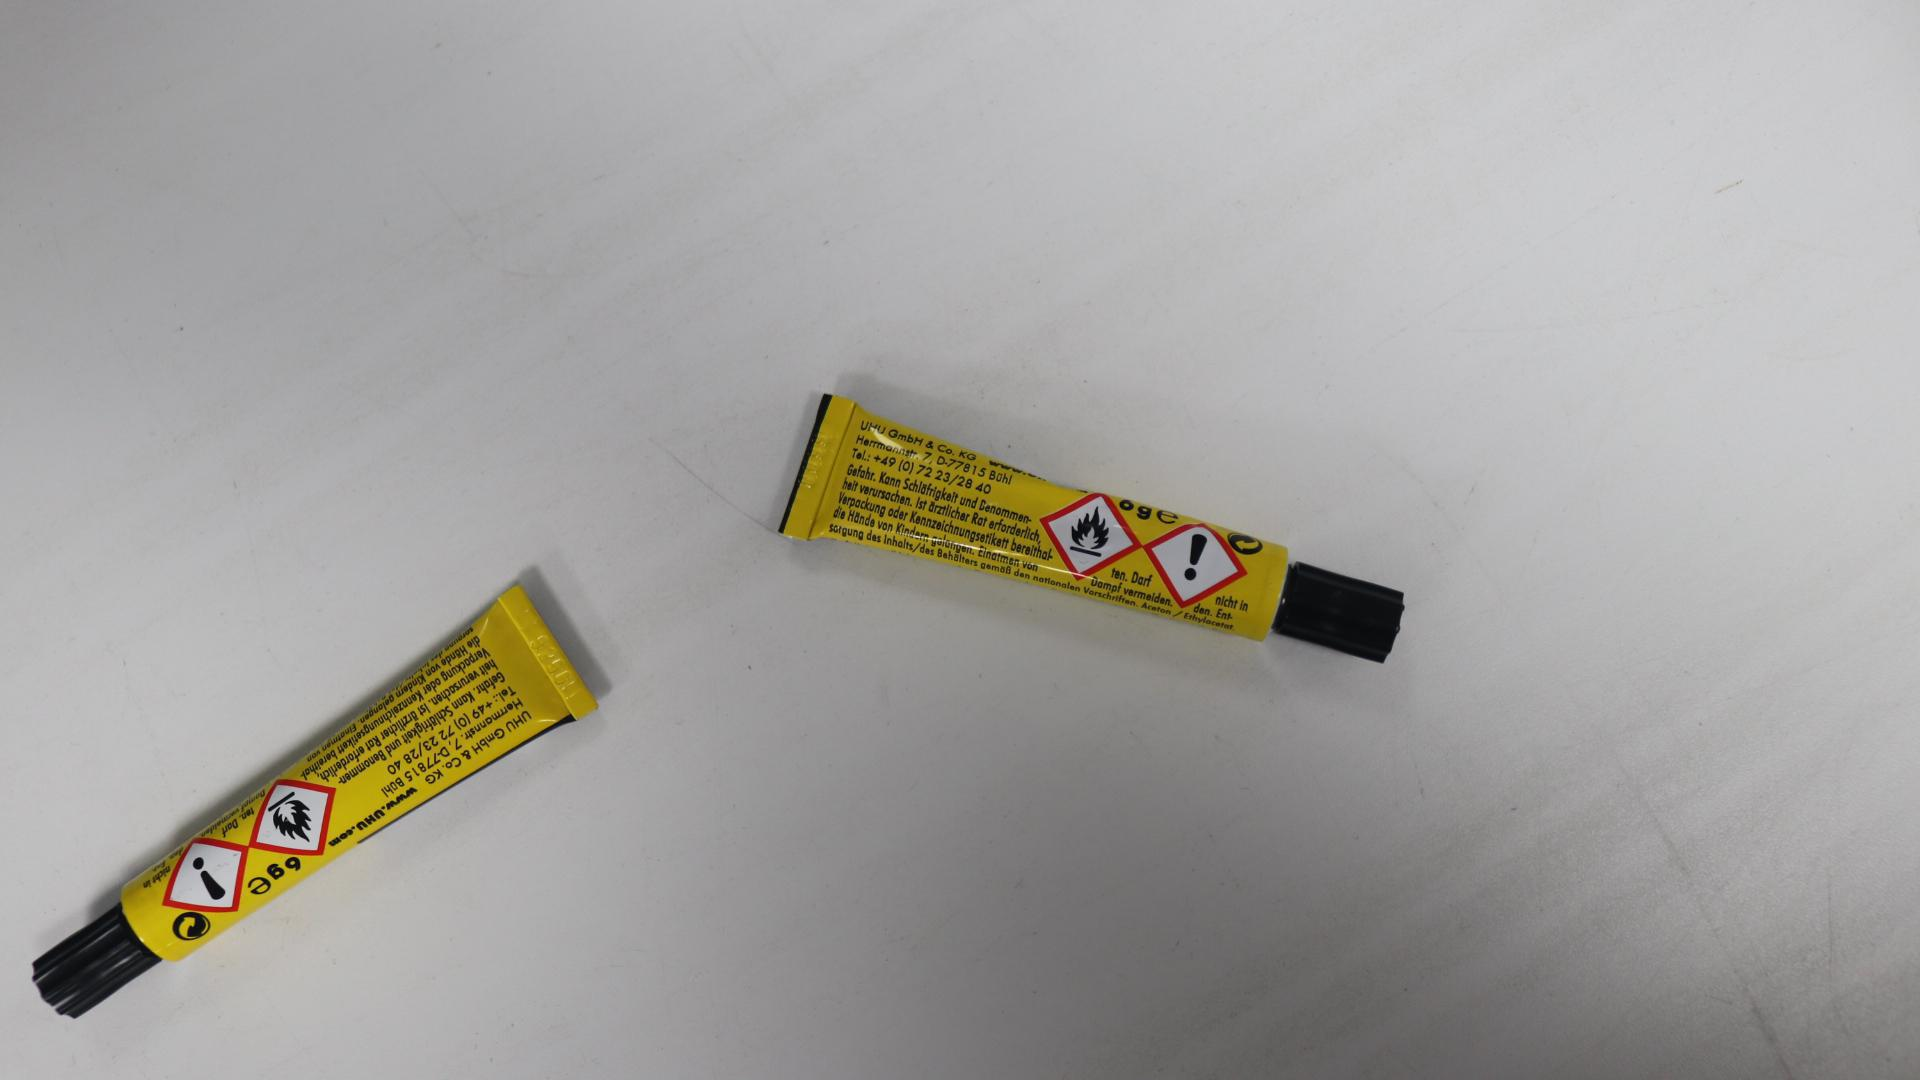Head: (79, 961, 98, 978), (1335, 605, 1345, 617)
Tail: (806, 461, 827, 479), (544, 647, 559, 666)
Tube: (31, 583, 597, 1018), (780, 394, 1404, 664)
